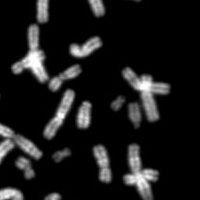chromosome: (0, 117, 42, 158), (44, 89, 75, 140), (128, 144, 153, 200), (123, 67, 170, 94), (27, 24, 48, 81), (48, 64, 83, 90), (140, 75, 159, 122), (12, 50, 44, 74), (93, 145, 111, 182), (69, 37, 102, 57), (124, 169, 159, 185), (0, 138, 16, 168), (77, 101, 91, 129), (17, 157, 34, 180), (84, 0, 104, 17), (0, 186, 22, 200), (129, 102, 140, 128), (52, 147, 69, 163), (37, 0, 49, 22), (111, 95, 125, 110), (36, 194, 60, 200), (122, 0, 141, 2), (0, 91, 1, 110)
